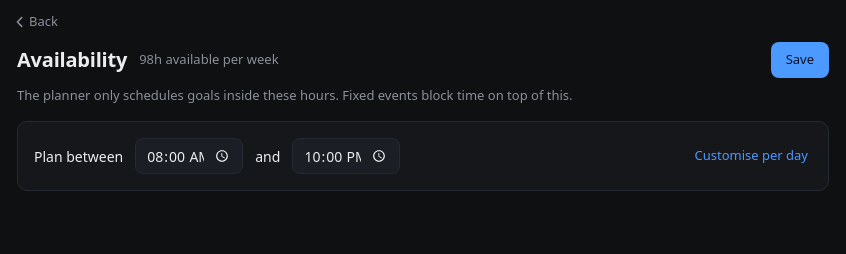
Scenario: AvailabilityPage simple mode › is shown when every day is open with the same hours, and saves them for all 7 days
Expected: the button "Save" is shown, [771, 42, 829, 78]
Expected: the text "Plan between" is shown, [34, 146, 123, 166]
Replace the text in the time field named "Start time" with "09:00" at {"x": 189, "y": 156}, box [135, 138, 243, 174]
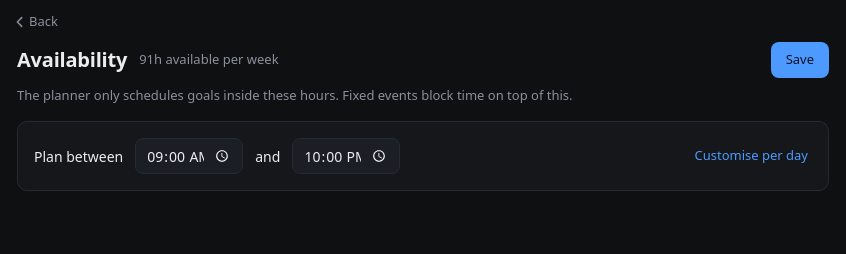
Replace the text in the time field named "End time" with "17:30" at {"x": 346, "y": 156}, box [292, 138, 400, 174]
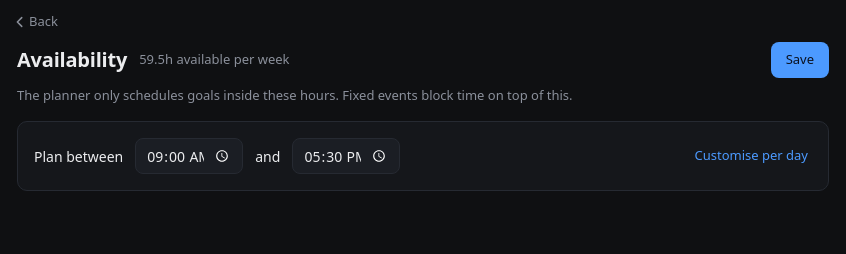
Expected: the text "59.5h available per week" is shown, [139, 50, 290, 69]
Click the button "Save" at {"x": 800, "y": 60}, box [771, 42, 829, 78]
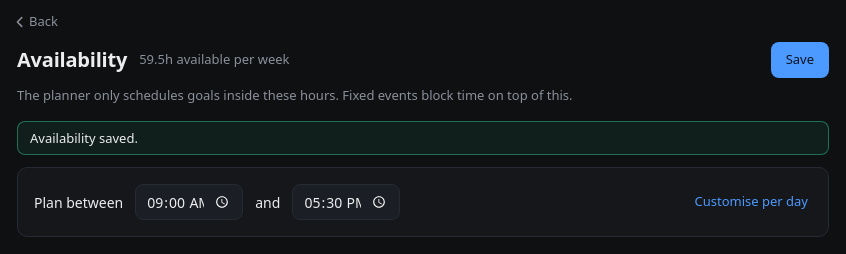
Expected: the text "Plan between" is shown, [34, 192, 123, 213]
Expected: the text "Availability saved." is shown, [17, 121, 829, 155]
